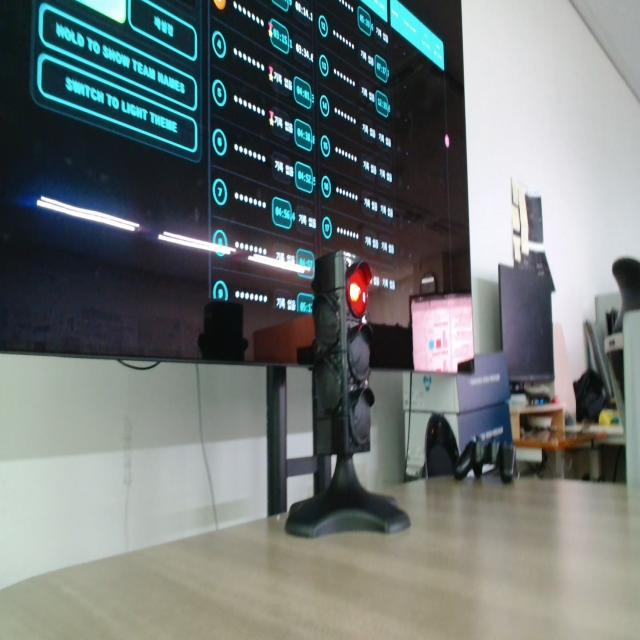red_light: (347, 262, 371, 317)
